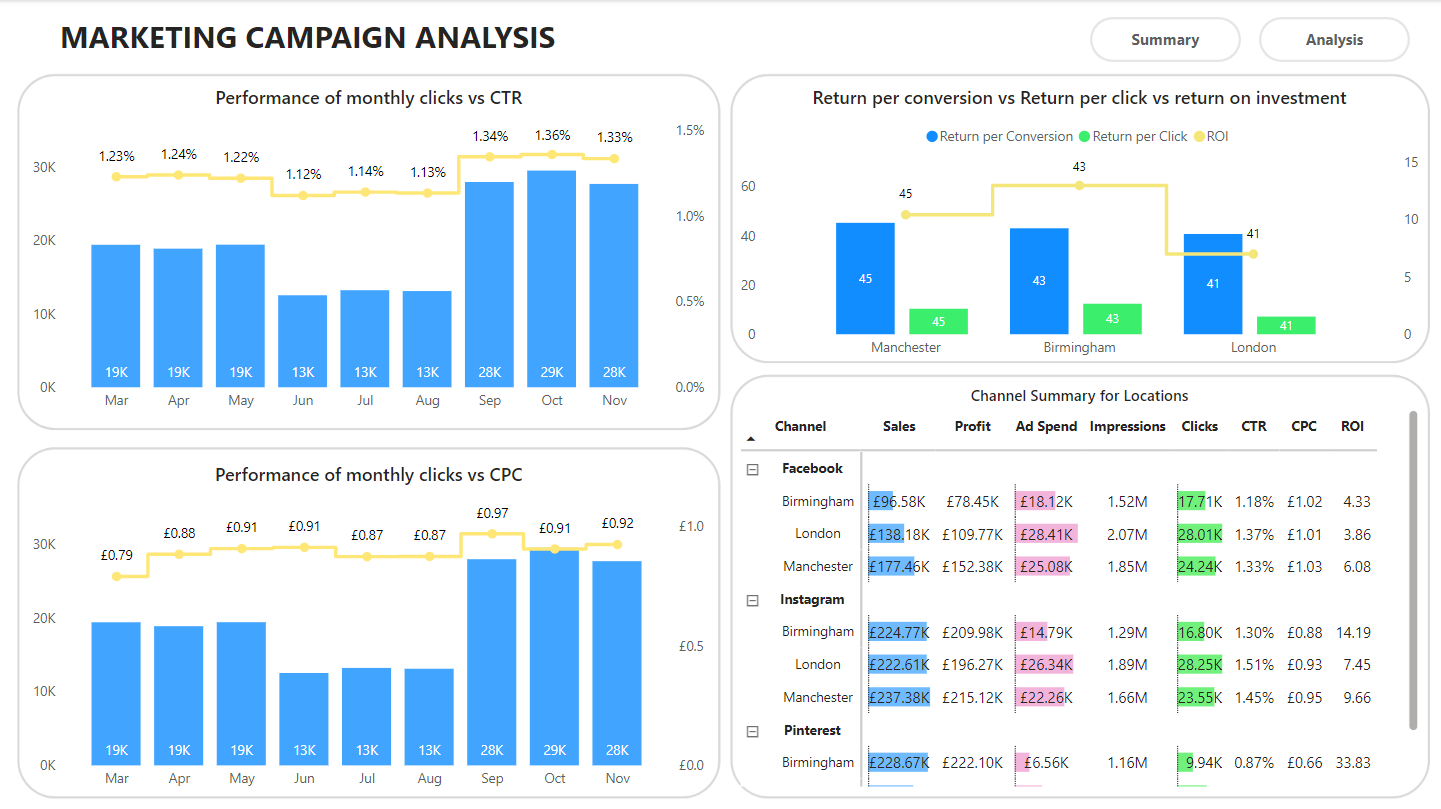

This screenshot's page, from the dashboard's own definition file:
{"tool":"powerbi","page":{"name":"Analysis","canvas":[1280,720],"ordinal":1},"visuals":[{"type":"textbox","box":[48.8,8.9,539.1,46.1],"z":0},{"type":"actionButton","box":[1117.2,15.1,133.9,39.9],"z":1000},{"type":"actionButton","box":[967.4,15.1,133.9,39.9],"z":2000},{"type":"pivotTable","title":"Channel Summary for Locations","fields":{"Rows":["Marketing Campaign Data.Channel","Marketing Campaign Data.City/Location"],"Values":["Marketing Campaign Data.Total Sales","Marketing Campaign Data.Total Profit","Marketing Campaign Data.Ad Spend","Sum(Marketing Campaign Data.Impressions)","Marketing Campaign Data.Total clicks","Marketing Campaign Data.CTR","Marketing Campaign Data.CPC","Marketing Campaign Data.ROI"]},"box":[653,341,611,361],"z":3000},{"type":"lineClusteredColumnComboChart","title":"Performance of monthly clicks vs CTR","fields":{"Y2":["Marketing Campaign Data.CTR"],"Category":["Calendar.Month"],"Y":["Marketing Campaign Data.Total clicks"]},"box":[25,75,606,298],"z":4000},{"type":"lineClusteredColumnComboChart","title":"Performance of monthly clicks vs CPC","fields":{"Category":["Calendar.Month"],"Y":["Marketing Campaign Data.Total clicks"],"Y2":["Marketing Campaign Data.CPC"]},"box":[25,410,606,299],"z":5000},{"type":"lineClusteredColumnComboChart","title":"Return per conversion vs Return per click vs return on investment","fields":{"Category":["Marketing Campaign Data.City/Location"],"Y2":["Marketing Campaign Data.ROI"],"Y":["Marketing Campaign Data.Return per Conversion","Marketing Campaign Data.Return per Click"]},"box":[653,75,611,251],"z":6000}]}

Visuals, with their boxes in screenshot pixels (x1, y1, x2, y2), scaled from the page's 1280x720 canvas onto the 1441x809 screenshot:
textbox: bbox(55, 10, 662, 62)
actionButton: bbox(1258, 17, 1408, 62)
actionButton: bbox(1089, 17, 1240, 62)
"Channel Summary for Locations" pivotTable: bbox(735, 383, 1423, 789)
"Performance of monthly clicks vs CTR" lineClusteredColumnComboChart: bbox(28, 84, 710, 419)
"Performance of monthly clicks vs CPC" lineClusteredColumnComboChart: bbox(28, 461, 710, 797)
"Return per conversion vs Return per click vs return on investment" lineClusteredColumnComboChart: bbox(735, 84, 1423, 366)
